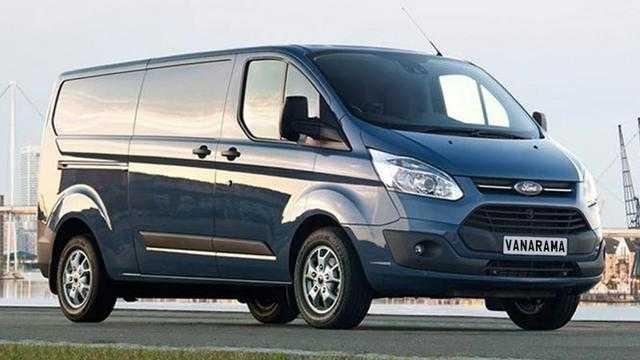car: (35, 48, 610, 326)
